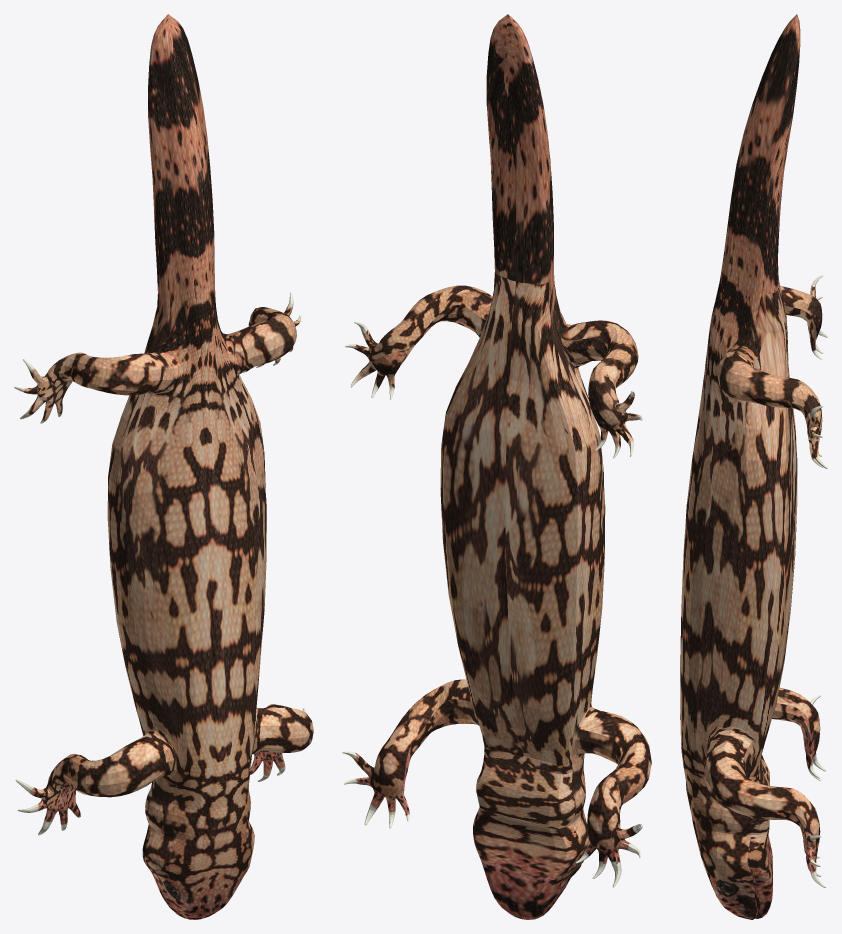
Rendered from Gila Monster.obj.
3 views of the same model, side by side, from view 1: azimuth 30°, elevation 25°; view 2: azimuth 150°, elevation 25°; view 3: azimuth 270°, elevation 25° (orthographic). The views are drawn at different scales.
Parts seen in each view (by area): view 1: Gila_Monster; view 2: Gila_Monster; view 3: Gila_Monster.
Part boxes in pixels (bbox=[...]): Gila_Monster: bbox=[14, 14, 313, 919]; Gila_Monster: bbox=[342, 14, 651, 919]; Gila_Monster: bbox=[680, 14, 827, 919].
Size of the model in its own units: 30.23 by 88.62 by 13.14.
1 material, 1 textured.
